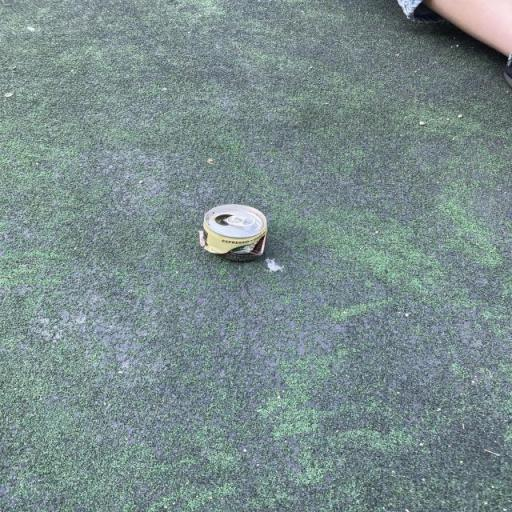metal: (188, 194, 277, 269)
